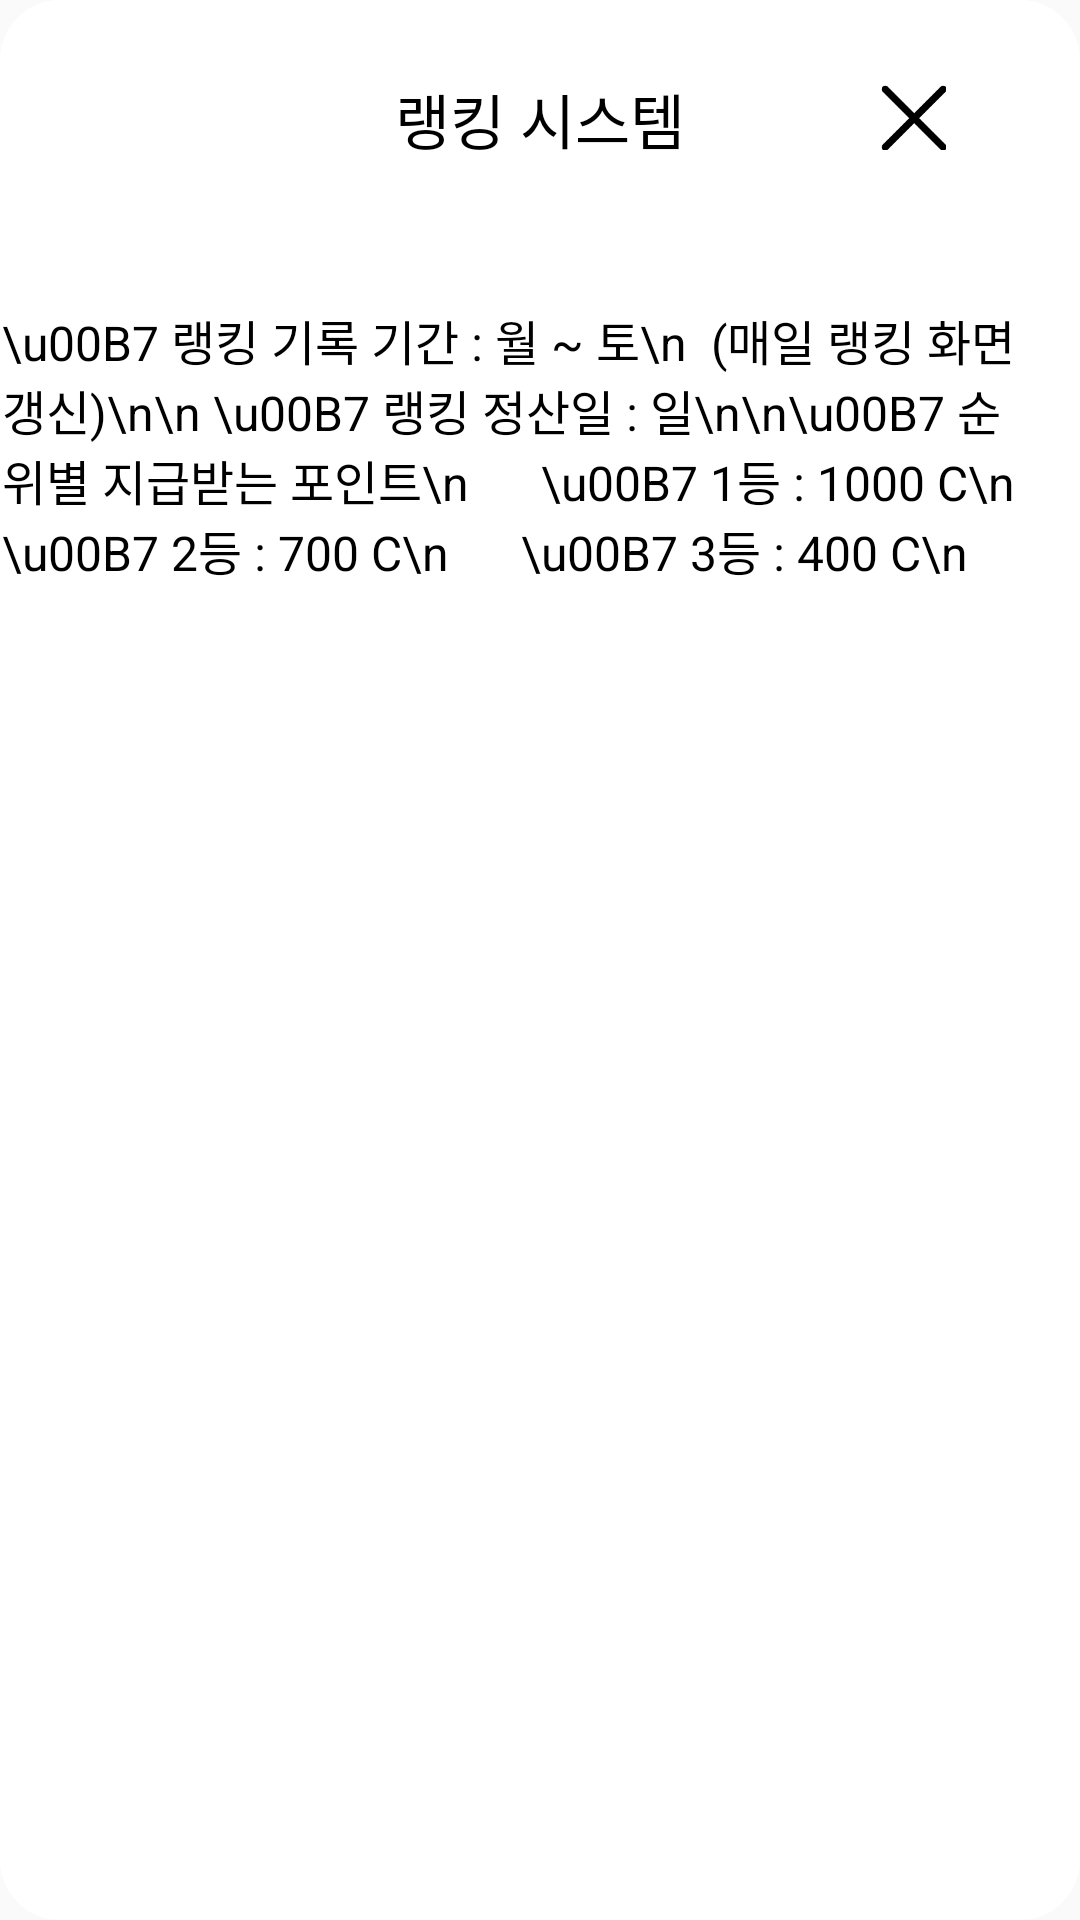

Icons on this 1080px×1920px Android screen, each with its box as [x1=x1, y1=y1, x2=x2, y2=y2]:
close: [x1=881, y1=85, x2=946, y2=150]
